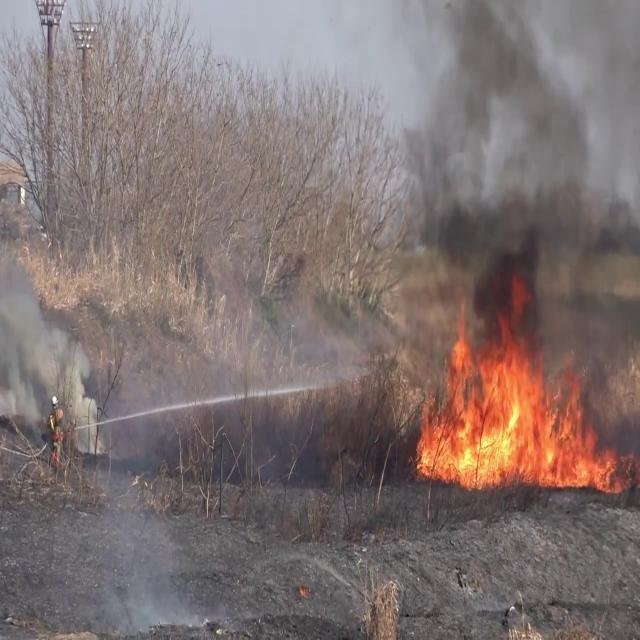Fire: (412, 314, 618, 490)
Smoke: (379, 1, 640, 362), (0, 231, 93, 437)
